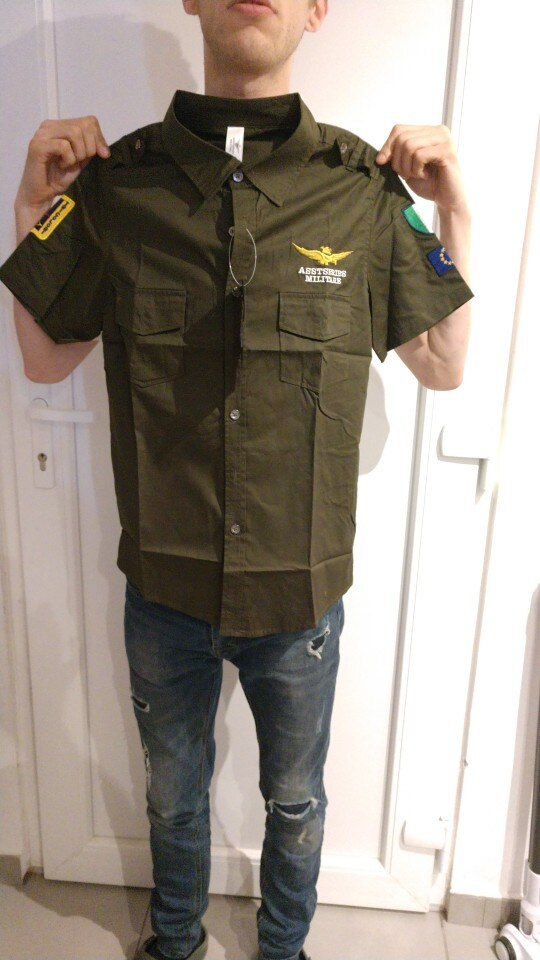shirts: (2, 86, 468, 641)
